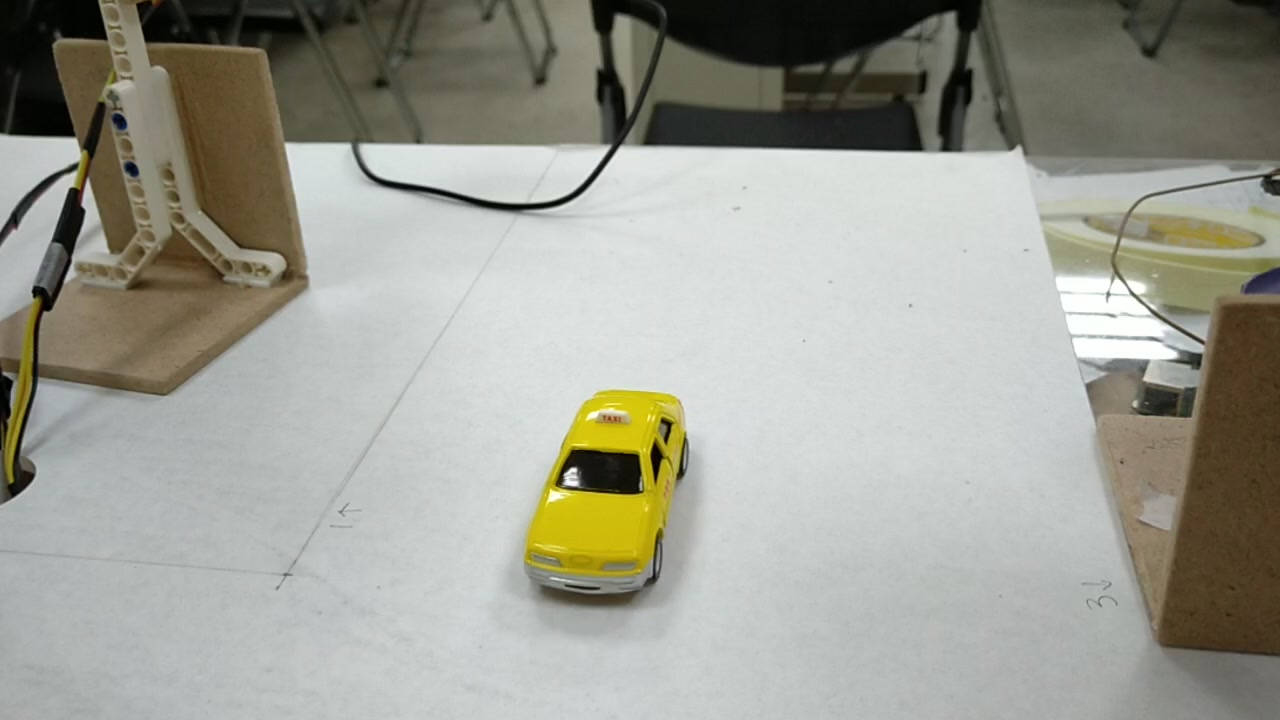car: (521, 389, 688, 608)
